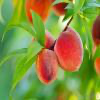Peach leaf: (9, 52, 39, 97), (2, 21, 38, 45), (0, 45, 29, 69), (79, 13, 93, 62), (30, 8, 45, 46), (24, 42, 46, 65), (80, 8, 99, 20)
